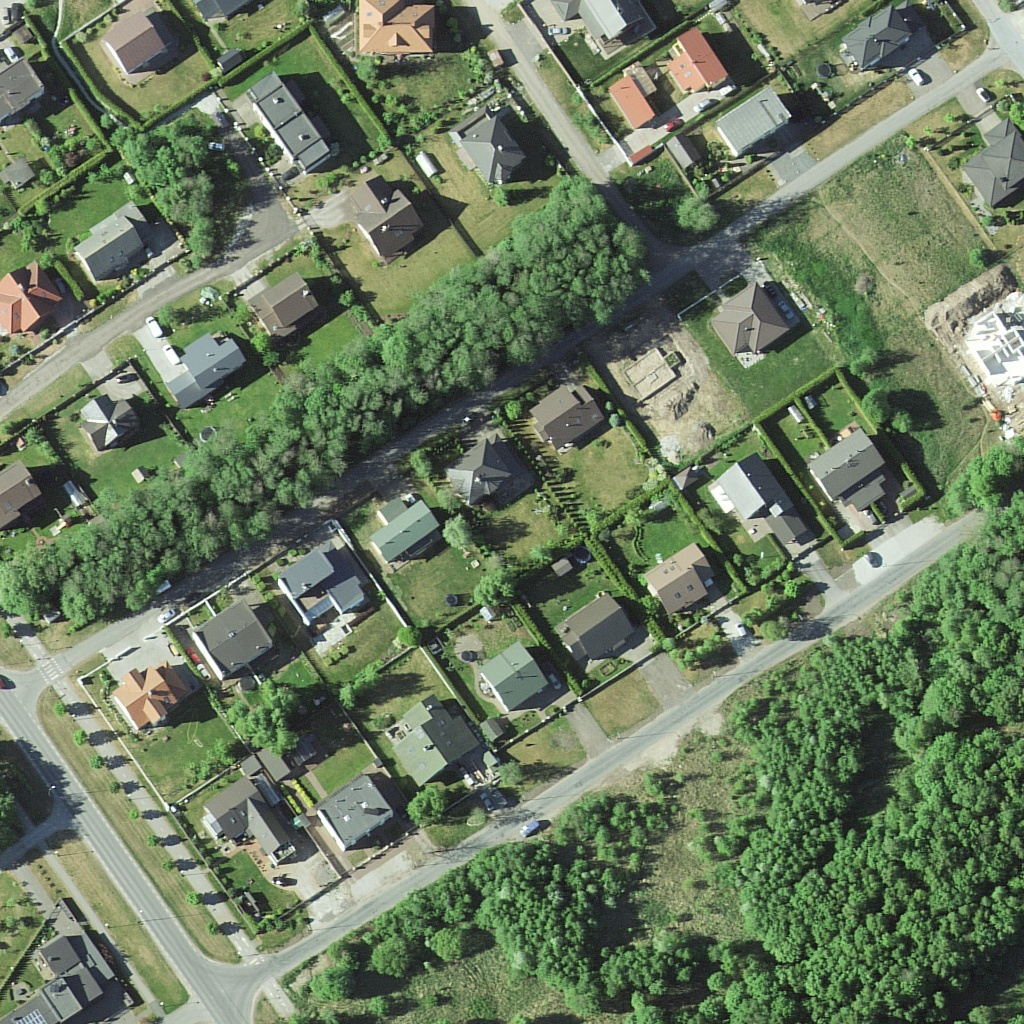building: (16, 931, 114, 1024), (712, 457, 814, 545), (392, 693, 483, 789), (196, 782, 291, 872), (252, 75, 331, 170), (275, 550, 372, 625), (314, 772, 400, 851), (356, 165, 424, 262), (810, 431, 890, 511), (452, 112, 530, 192), (77, 202, 154, 281), (200, 602, 276, 679), (171, 338, 251, 411), (355, 1, 434, 73), (525, 384, 610, 448), (710, 288, 788, 357), (254, 263, 323, 341), (722, 84, 792, 159), (641, 544, 720, 609), (554, 590, 635, 653), (972, 115, 1024, 209), (475, 648, 552, 710), (115, 662, 182, 731), (838, 5, 911, 68), (1, 259, 60, 336), (369, 501, 436, 564), (441, 441, 510, 501), (671, 31, 724, 103), (105, 15, 163, 79), (1, 53, 43, 123), (78, 396, 137, 444), (612, 73, 658, 132)
